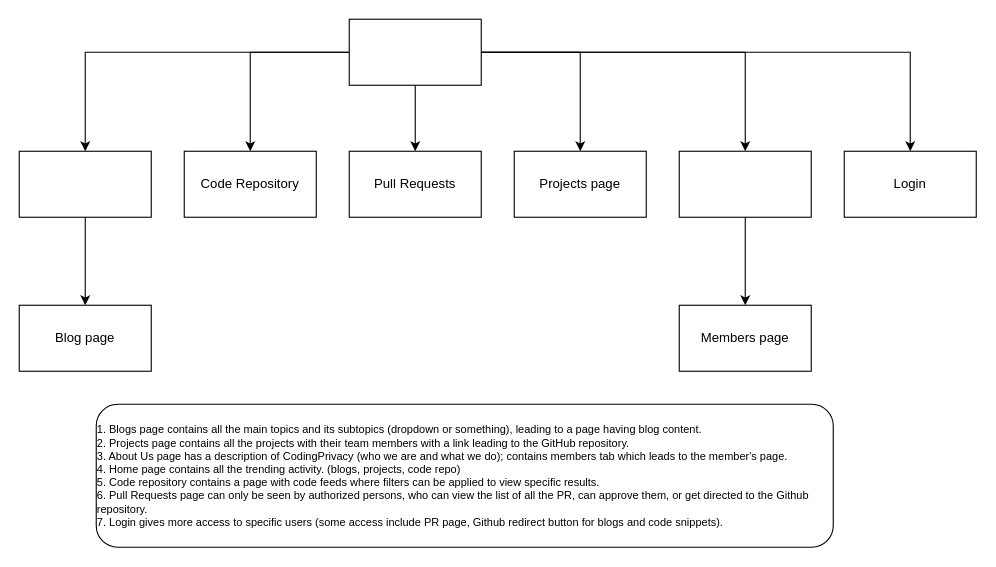
Image size: 996x567. Some labels were removed from this diagram. Here are the shapes that lost their labels. From the top down, the box of each, then its label:
(348, 18, 481, 85): Home Page
(18, 150, 151, 217): Blogs main page
(678, 150, 811, 217): About Us page
